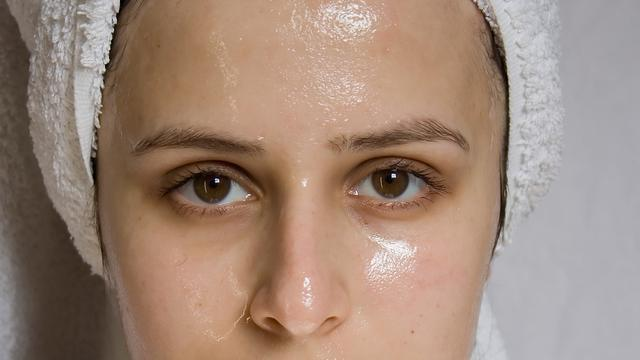Oily-Skin: (294, 0, 436, 41), (275, 267, 349, 321), (363, 225, 421, 283), (293, 162, 343, 215), (200, 273, 254, 322)
